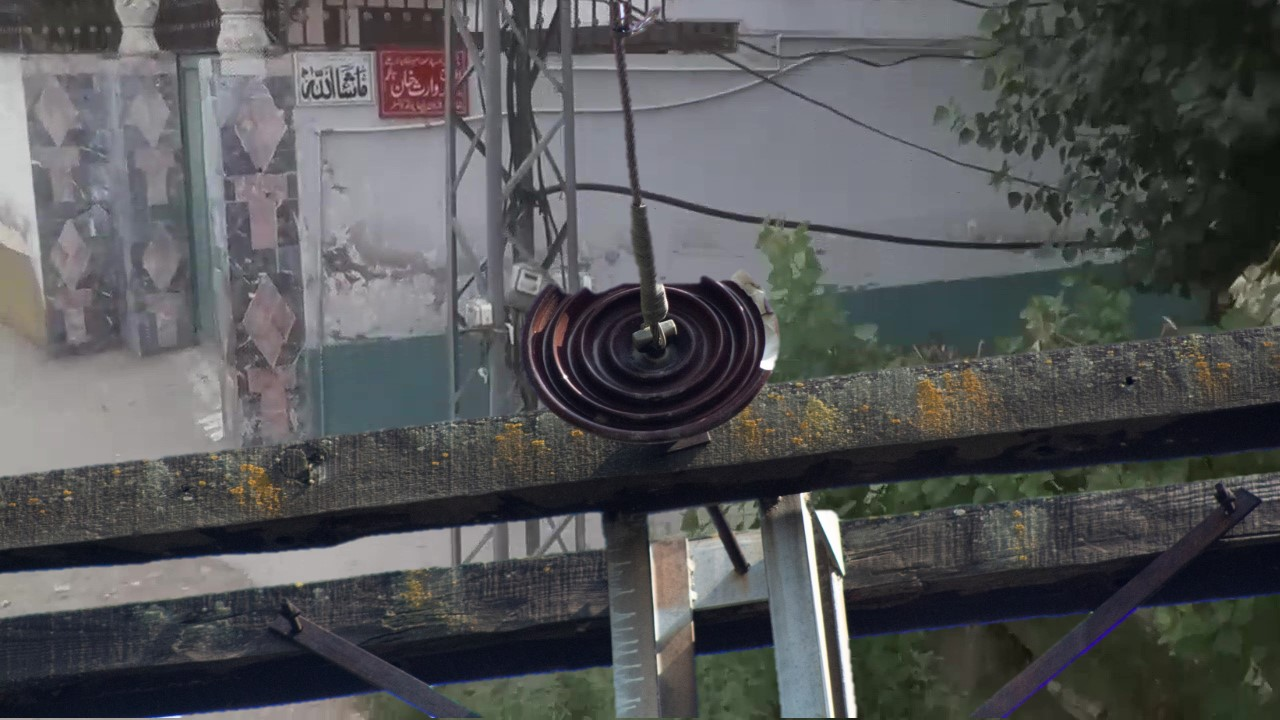defect_disc: (514, 264, 795, 456)
